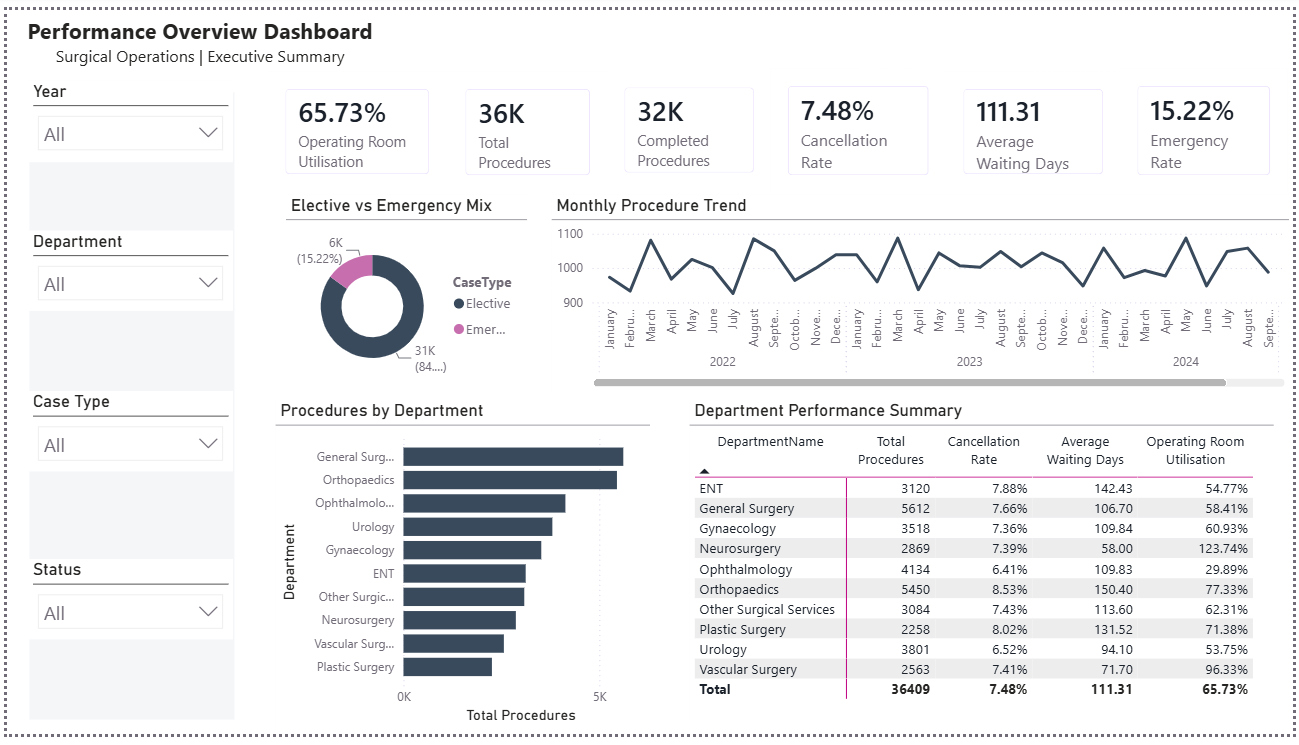

This screenshot's page, from the dashboard's own definition file:
{"tool":"powerbi","page":{"name":"Executive Overview","canvas":[1280,720],"ordinal":0},"visuals":[{"type":"shape","box":[22,82,204,624],"z":0},{"type":"textbox","box":[0,0,384.3,70],"z":1000},{"type":"slicer","title":"Year","fields":{"Values":["dim_date.Year"]},"box":[21.4,70,204.3,81.4],"z":2000},{"type":"slicer","title":"Department","fields":{"Values":["dim_department.DepartmentName"]},"box":[21.4,220,204.3,80],"z":3000},{"type":"slicer","title":"Case Type","fields":{"Values":["dim_case_type.CaseType"]},"box":[21.4,378.6,204.3,80],"z":4000},{"type":"slicer","title":"Status","fields":{"Values":["dim_status.Status"]},"box":[21.4,545.7,204.3,80],"z":5000},{"type":"cardVisual","fields":{"Data":["_Measures.Total Procedures"]},"box":[438.1,61.9,158.7,120.6],"z":6000},{"type":"cardVisual","fields":{"Data":["_Measures.Completed Procedures"]},"box":[596.8,60.3,163.5,119],"z":7000},{"type":"cardVisual","fields":{"Data":["_Measures.Cancellation Rate"]},"box":[760.3,58.7,174.6,123.8],"z":8000},{"type":"cardVisual","fields":{"Data":["_Measures.Average Waiting Days"]},"box":[934.9,61.9,173,119],"z":9000},{"type":"cardVisual","fields":{"Data":["_Measures.Emergency Rate"]},"box":[1107.9,58.7,166.7,123.8],"z":11000},{"type":"cardVisual","fields":{"Data":["_Measures.Operating Room Utilisation"]},"box":[260.3,61.9,177.8,119],"z":12000},{"type":"lineChart","title":"Monthly Procedure Trend","fields":{"Category":["dim_date.YearMonth.Variation.Date Hierarchy.Year","dim_date.YearMonth.Variation.Date Hierarchy.Month"],"Y":["_Measures.Total Procedures"]},"box":[541.4,182.9,734.3,195.7],"z":13000},{"type":"clusteredBarChart","title":"Procedures by Department","fields":{"Category":["dim_department.DepartmentName"],"Y":["_Measures.Total Procedures"]},"box":[267.1,388.6,372.9,325.7],"z":14000},{"type":"donutChart","title":"Elective vs Emergency Mix","fields":{"Category":["dim_case_type.CaseType"],"Y":["_Measures.Total Procedures"]},"box":[277.1,182.9,240,197.1],"z":15000},{"type":"pivotTable","title":"Department Performance Summary","fields":{"Rows":["dim_department.DepartmentName"],"Values":["_Measures.Total Procedures","_Measures.Cancellation Rate","_Measures.Average Waiting Days","_Measures.Operating Room Utilisation"]},"box":[678.6,388.6,581.4,321.4],"z":16000}]}

Visuals, with their boxes in screenshot pixels (x1, y1, x2, y2), scaled from the page's 1280x720 canvas onto the 1299x745 screenshot:
shape: region(22, 85, 229, 731)
textbox: region(0, 0, 390, 72)
"Year" slicer: region(22, 72, 229, 157)
"Department" slicer: region(22, 228, 229, 310)
"Case Type" slicer: region(22, 392, 229, 475)
"Status" slicer: region(22, 565, 229, 647)
cardVisual - _Measures.Total Procedures: region(445, 64, 606, 189)
cardVisual - _Measures.Completed Procedures: region(606, 62, 772, 186)
cardVisual - _Measures.Cancellation Rate: region(772, 61, 949, 189)
cardVisual - _Measures.Average Waiting Days: region(949, 64, 1124, 187)
cardVisual - _Measures.Emergency Rate: region(1124, 61, 1294, 189)
cardVisual - _Measures.Operating Room Utilisation: region(264, 64, 445, 187)
"Monthly Procedure Trend" lineChart: region(549, 189, 1295, 392)
"Procedures by Department" clusteredBarChart: region(271, 402, 650, 739)
"Elective vs Emergency Mix" donutChart: region(281, 189, 525, 393)
"Department Performance Summary" pivotTable: region(689, 402, 1279, 735)
